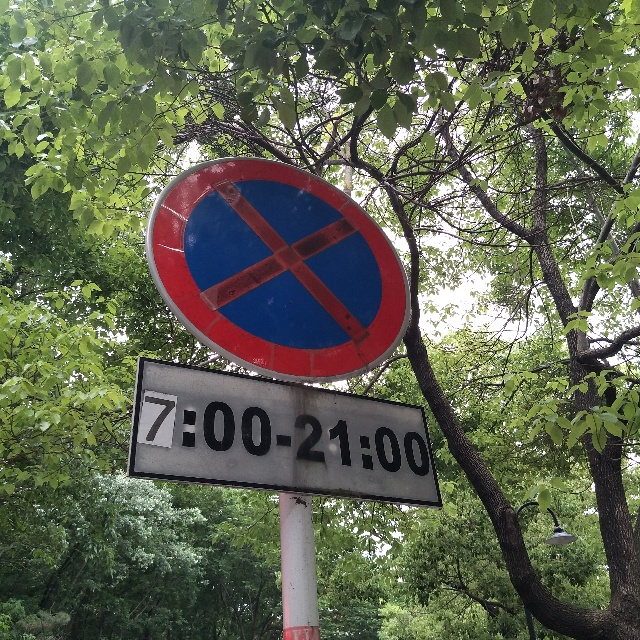stop: (179, 156, 392, 351)
